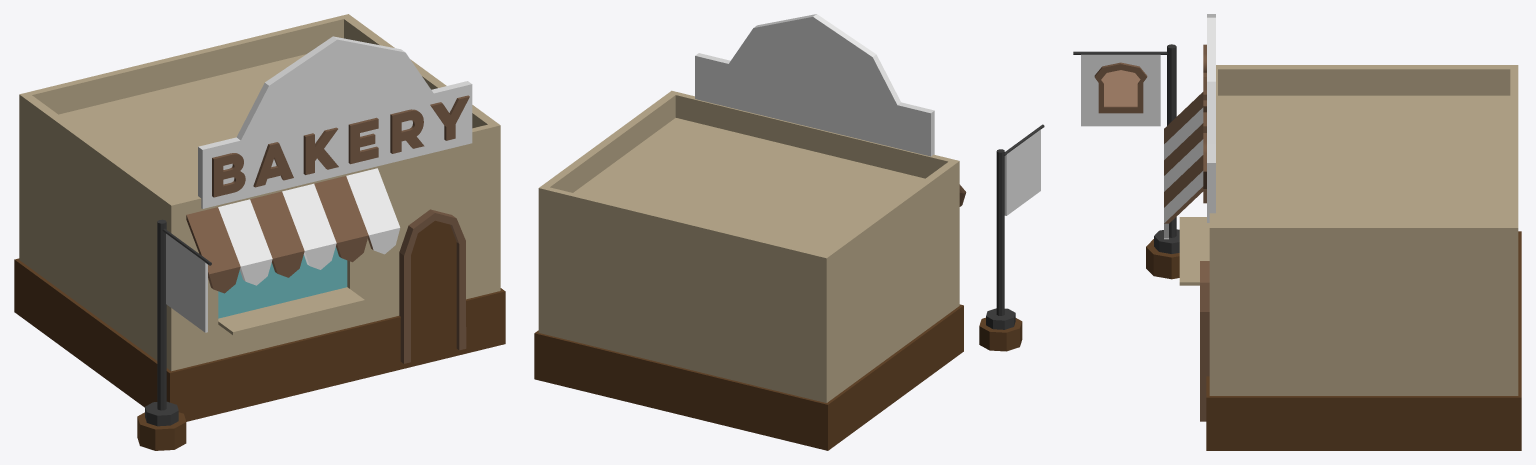
The model's file is 3D Bakery.fbx.
3 views of the same model, side by side, from view 1: azimuth 30°, elevation 25°; view 2: azimuth 150°, elevation 25°; view 3: azimuth 270°, elevation 25° (orthographic). The views are drawn at different scales.
Parts seen in each view (by area): view 1: pCube24, pCube32, pCube33, pCylinder45, pCylinder54, pCylinder50, typeMesh1, pCube26, pCylinder48, pCylinder46, pCylinder47; view 2: pCube24, pCube32, pCube33, pCylinder45, pCube26, pCylinder48, pCylinder46, pCylinder47; view 3: pCube32, pCube24, pCube33, pCylinder54, pCube26, pCube31, pCylinder45, pCylinder50, pCylinder46, pCylinder48, typeMesh1, pCylinder47.
Boxes of the visible parts, x1,y1,x2,y2 form: pCube24: (19, 14, 500, 371); pCube32: (21, 14, 500, 370); pCube33: (14, 258, 505, 421); pCylinder45: (198, 36, 472, 208); pCylinder54: (186, 168, 400, 293); pCylinder50: (399, 209, 466, 363); typeMesh1: (212, 95, 469, 197); pCube26: (166, 234, 207, 332); pCylinder48: (157, 219, 166, 410); pCylinder46: (137, 412, 186, 450); pCylinder47: (145, 401, 178, 426); pCube24: (538, 90, 959, 402); pCube32: (539, 93, 951, 402); pCube33: (534, 304, 963, 450); pCylinder45: (695, 14, 934, 156); pCube26: (1004, 129, 1040, 215); pCylinder48: (996, 149, 1004, 315); pCylinder46: (979, 317, 1022, 351); pCylinder47: (986, 308, 1015, 329); pCube32: (1179, 65, 1518, 395); pCube24: (1179, 65, 1518, 282); pCube33: (1206, 231, 1521, 450); pCylinder54: (1164, 92, 1203, 239); pCube26: (1081, 54, 1160, 126); pCube31: (1094, 62, 1147, 113); pCylinder45: (1207, 14, 1215, 222); pCylinder50: (1200, 261, 1209, 421); pCylinder46: (1146, 239, 1179, 279); pCylinder48: (1167, 44, 1176, 237); typeMesh1: (1203, 44, 1206, 203); pCylinder47: (1154, 229, 1179, 253).
Size of the model in its own units: 17.43 by 15.02 by 17.44.
